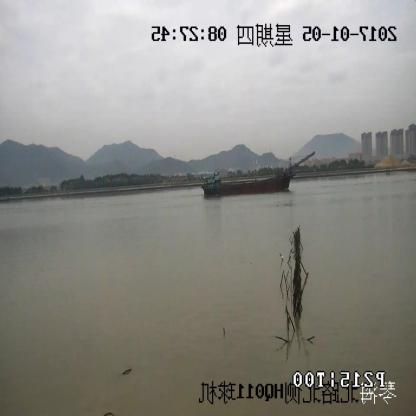Bulk Carrier: (200, 152, 314, 196)
